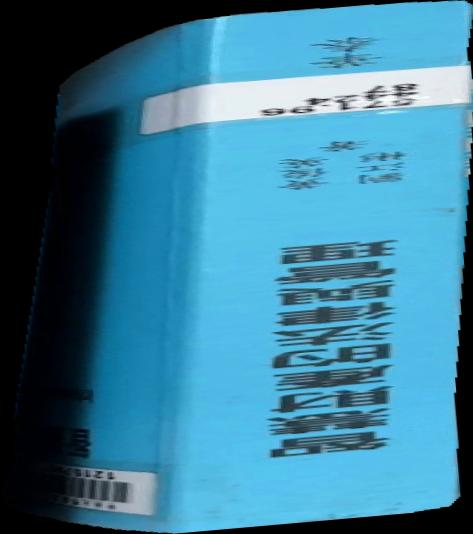reverse: (1, 1, 473, 534)
